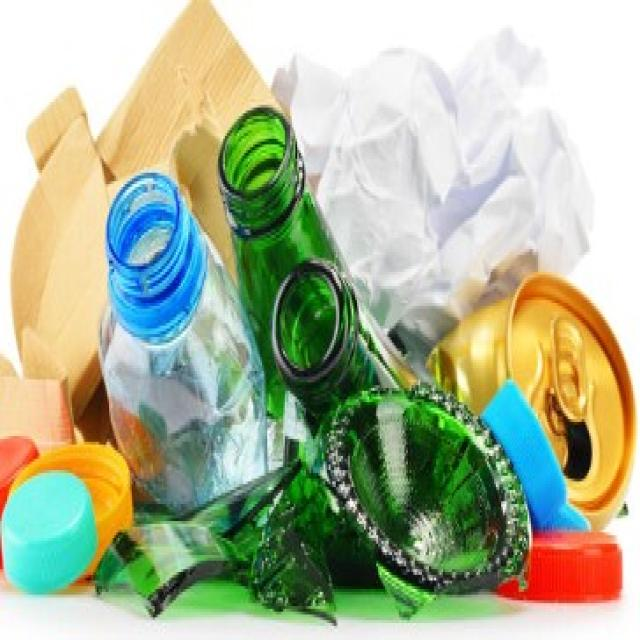electronic: (220, 107, 532, 640)
